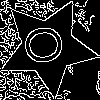O: (22, 22, 73, 67)
